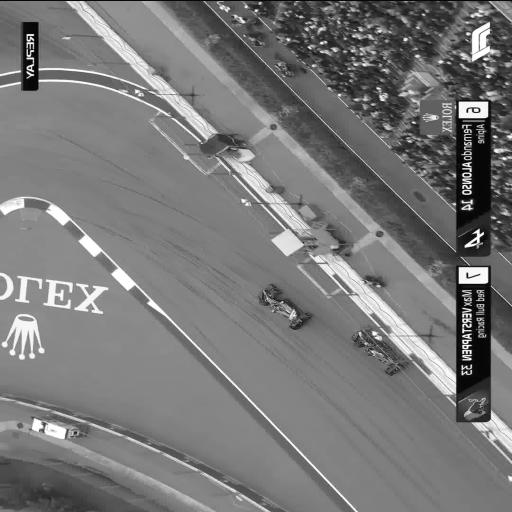f1_car: (351, 326, 405, 374), (259, 283, 311, 329)
